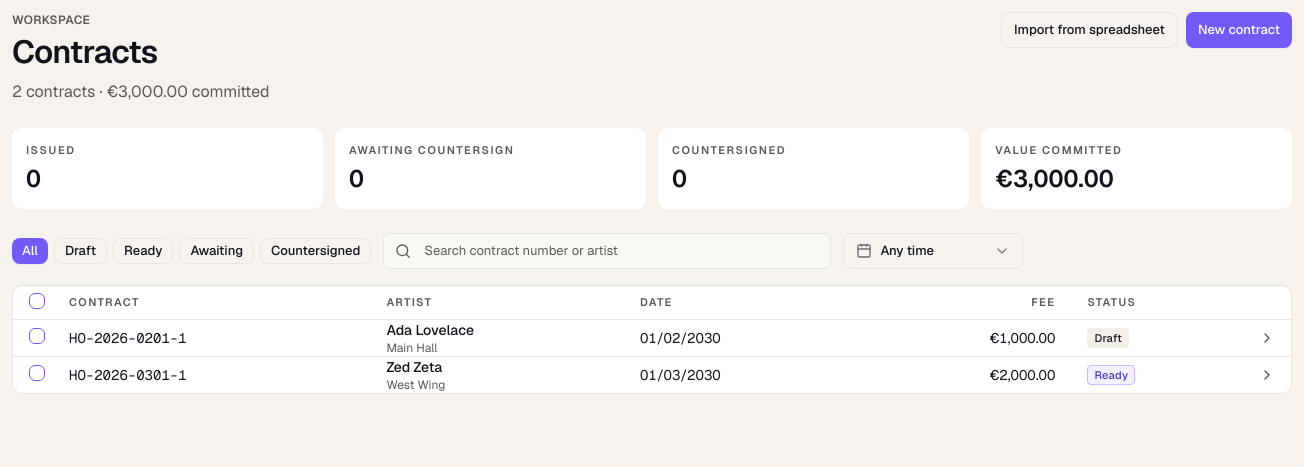
Test: HireOrdersPage › issues the selected draft/ready orders via the bulk bar
Later steps or results of the test are not shown.
Expected: the text "HO-2026-0201-1" is shown, left=69, top=329, right=187, bottom=347
Click the checkbox named "select contract ho-2026-0201-1". click: coordinates (37, 336)
box: left=29, top=328, right=45, bottom=344
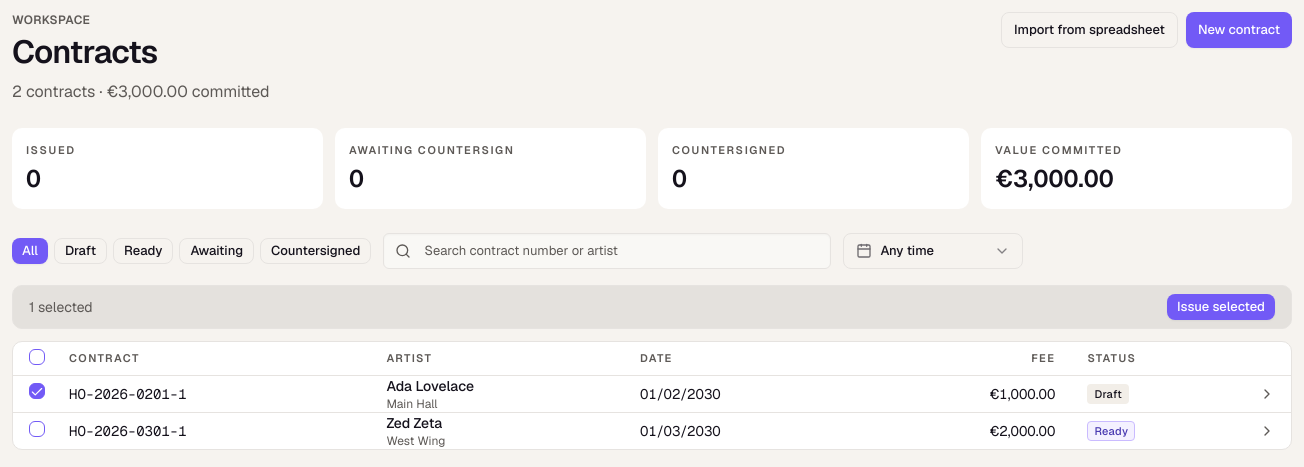
Click the checkbox named "select contract ho-2026-0301-1". click: coordinates (37, 429)
box: left=29, top=421, right=45, bottom=437
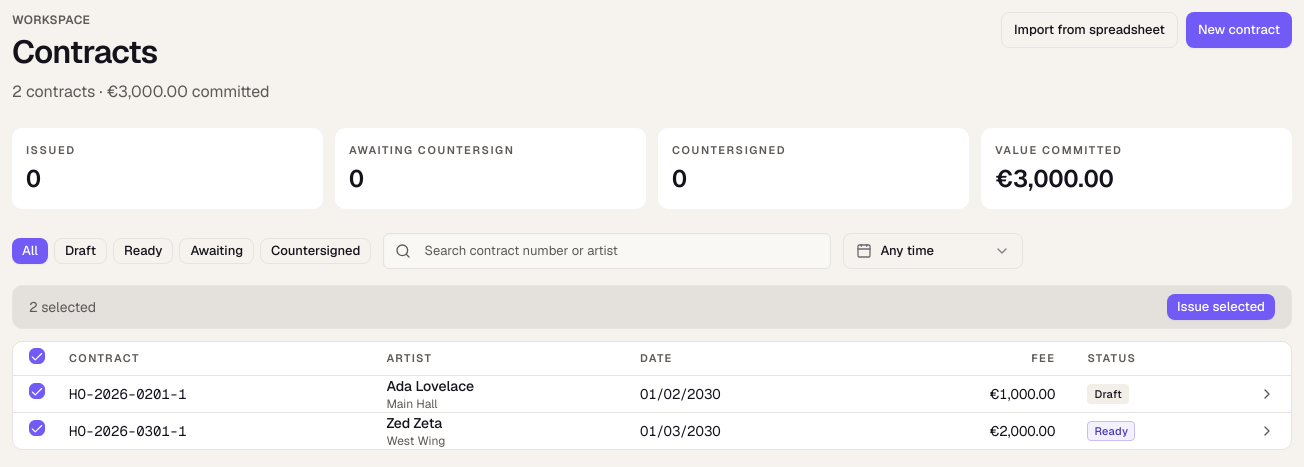
Now the button "Issue selected" is enabled, box left=1167, top=294, right=1275, bottom=320
